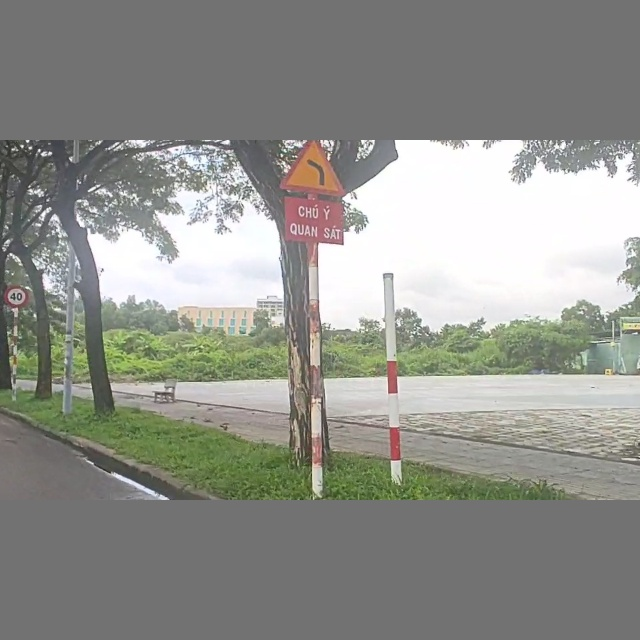P.127*40: (5, 285, 31, 306)
W.201a: (273, 141, 353, 196)
